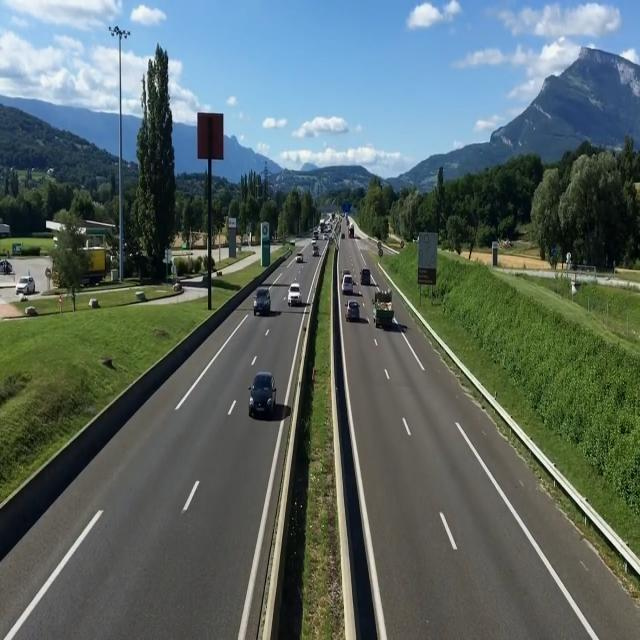Car: (245, 367, 278, 416), (252, 288, 271, 315), (15, 276, 36, 295), (287, 282, 301, 306), (346, 300, 361, 321), (342, 272, 354, 294), (296, 253, 304, 263)
Truck: (371, 290, 396, 326)
